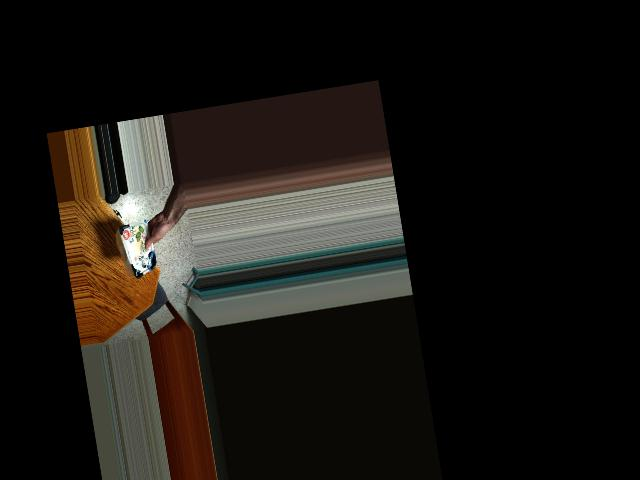cheese: (117, 220, 163, 277)
